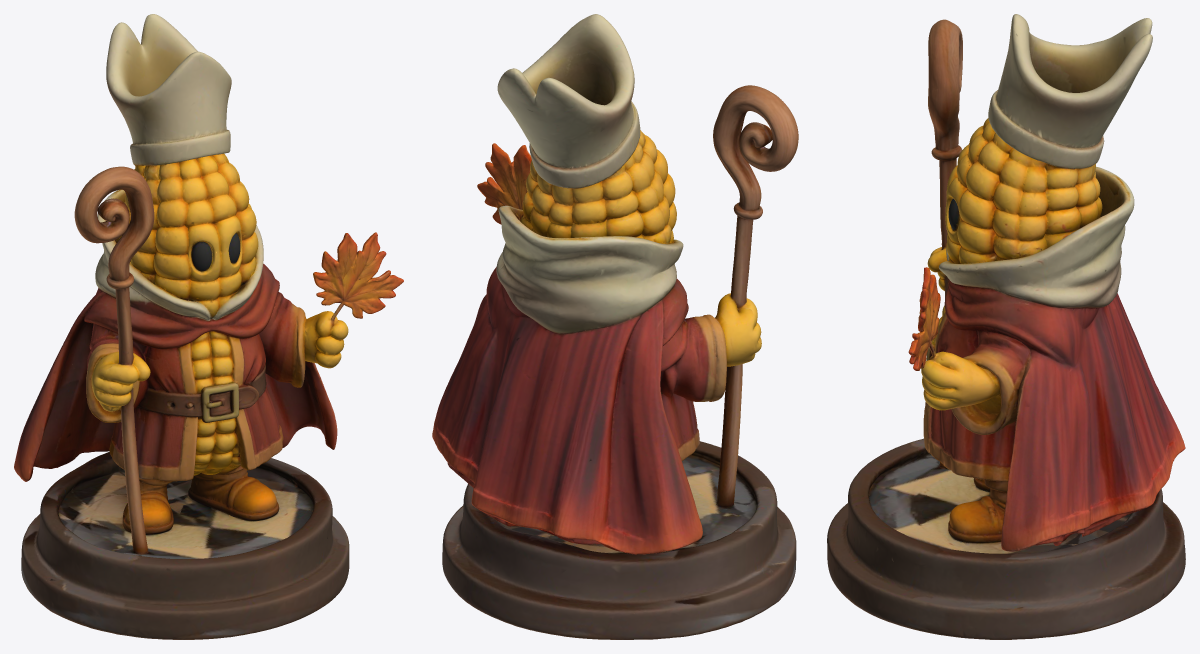
File: KernelBishop-opt.glb
The picture shows the model from 3 angles, left to right: view 1: azimuth 30°, elevation 25°; view 2: azimuth 150°, elevation 25°; view 3: azimuth 270°, elevation 25°; orthographic projection. The views are drawn at different scales.
Bounding box in the file's own units: 1.23 × 1.9 × 1.1.
1 material, 1 textured.
